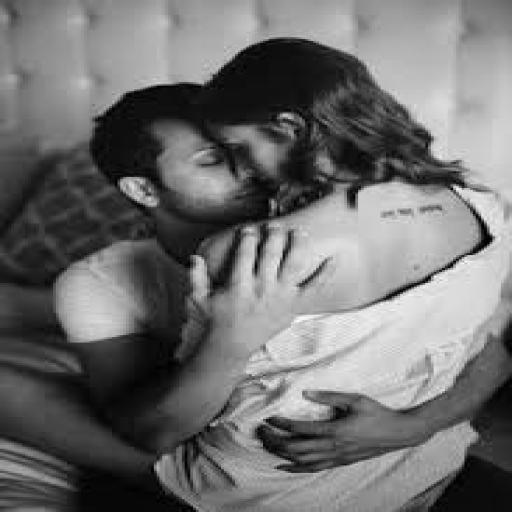hugging: (48, 36, 509, 510)
